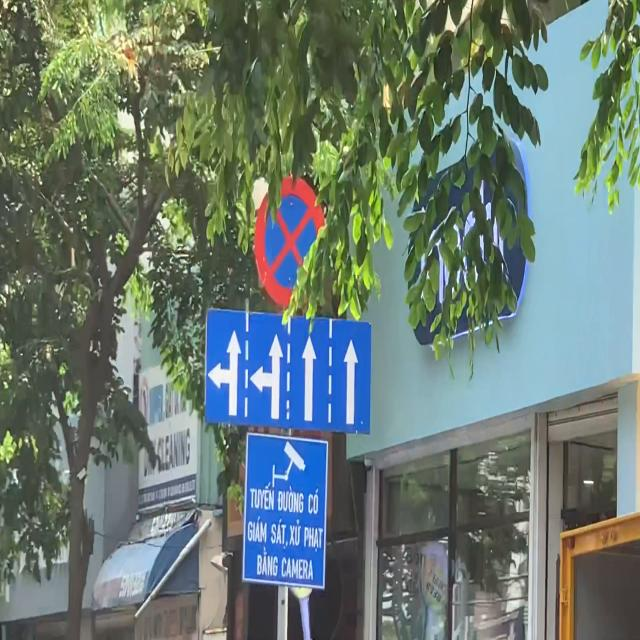Cam dung va do: (252, 174, 332, 312)
